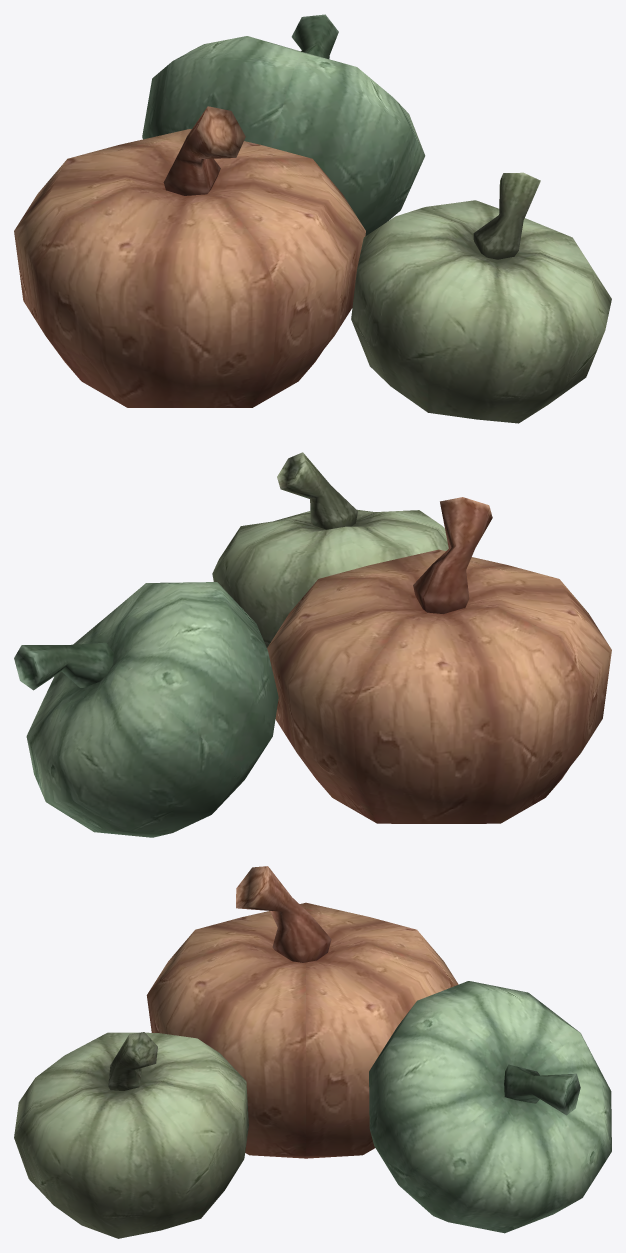
3 renders of one model, top to bottom at view 1: azimuth 30°, elevation 25°; view 2: azimuth 150°, elevation 25°; view 3: azimuth 270°, elevation 25°, orthographic. The views are drawn at different scales.
Size of the model in its own units: 1.23 by 0.7418 by 1.52.
Materials: 1 (1 with a texture image).
